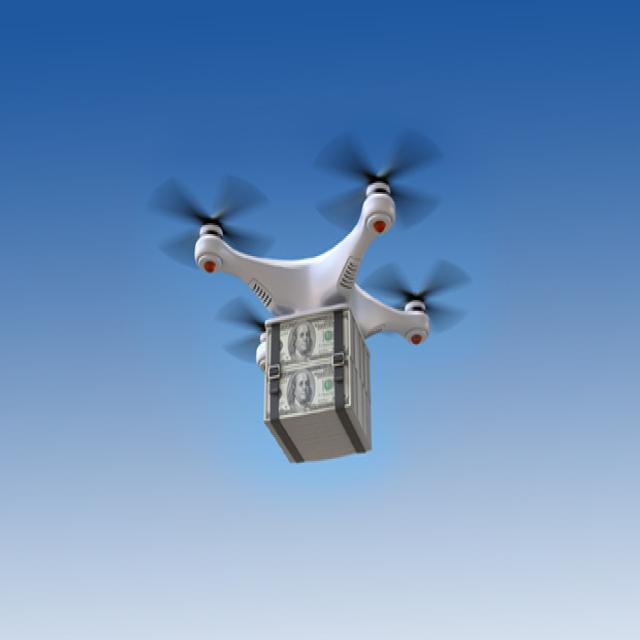drone: (144, 146, 476, 399)
